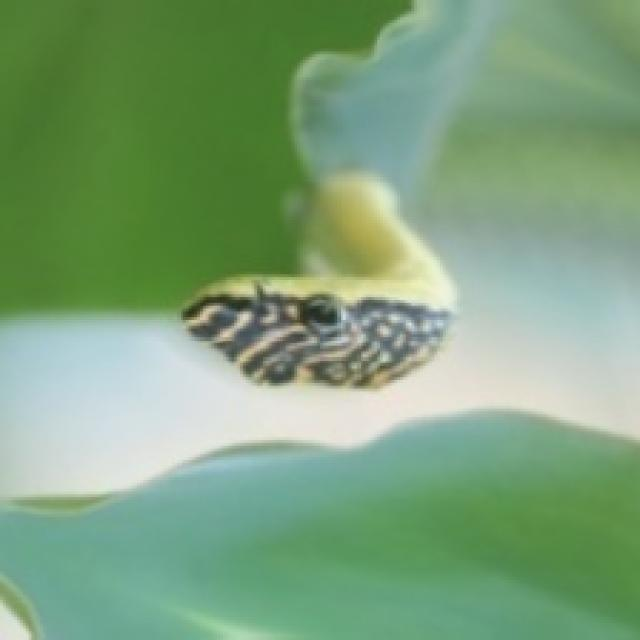paradise tree snake: (183, 171, 454, 386)
